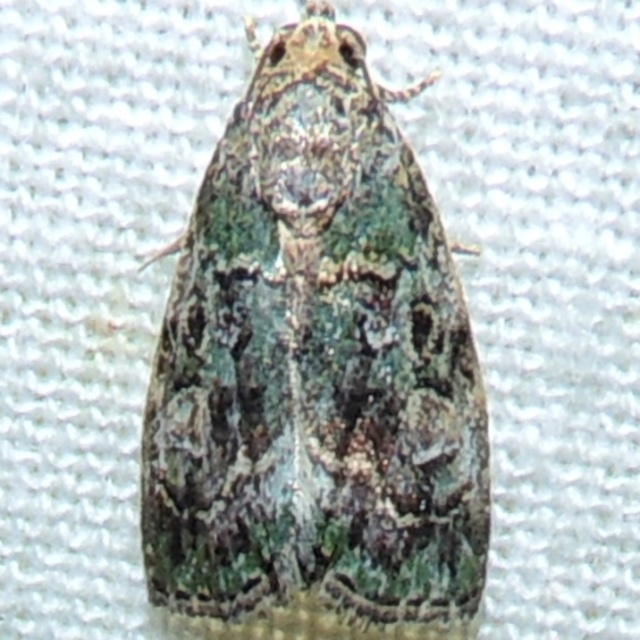Moths and butterflies: (123, 0, 498, 639)
